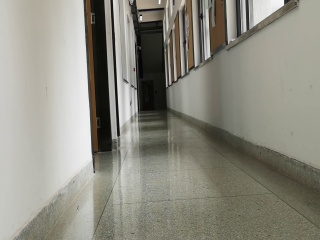room: (79, 2, 118, 164)
